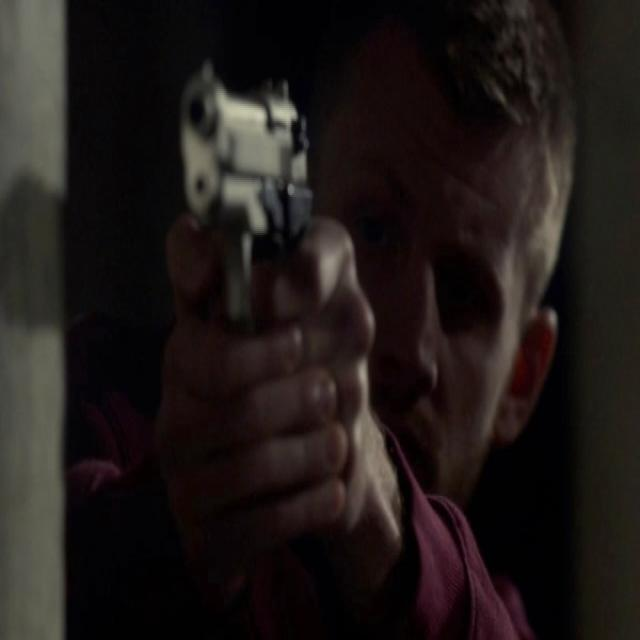weapons: (165, 52, 347, 491)
